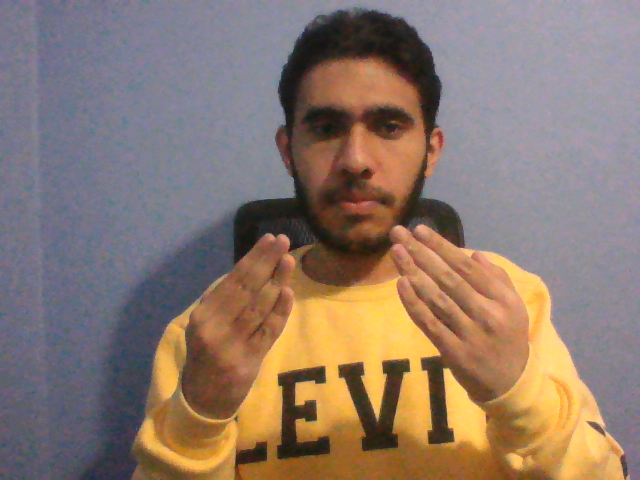thanks: (180, 218, 538, 418)
